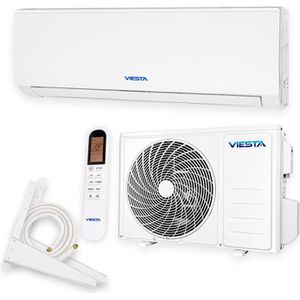ac: (10, 1, 290, 113)
